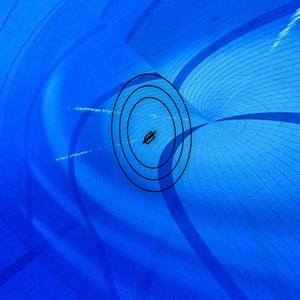circle: (109, 71, 196, 198)
submarine: (140, 127, 160, 149)
